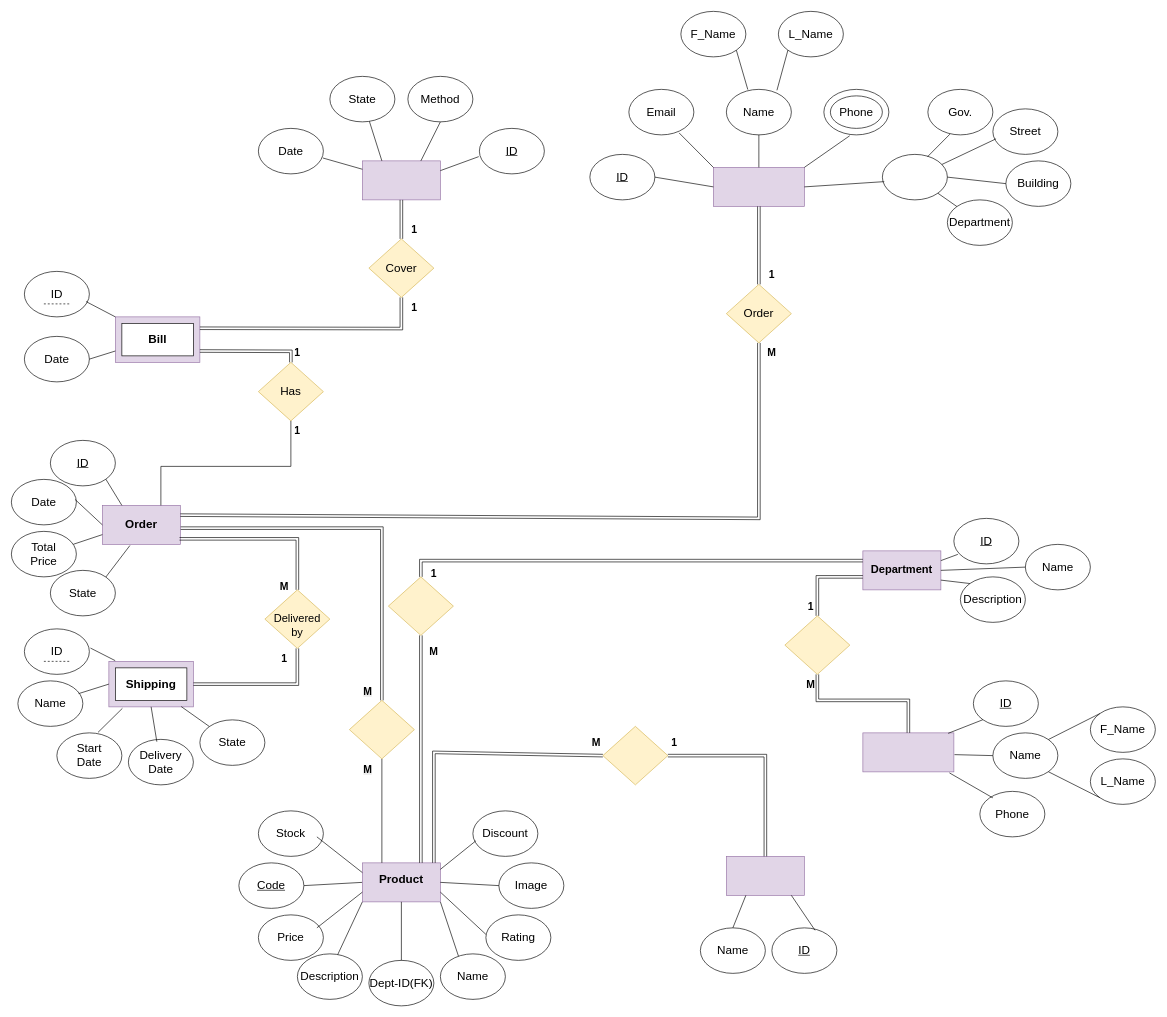
Image size: 1167x1017. Some labels were removed from this diagram. Here are the shapes that lost their labels. From the top down, the box of each, then its label:
(362, 160, 440, 200): Payment
(713, 167, 804, 206): customer
(882, 154, 947, 200): Address
(388, 576, 453, 635): Belong to
(784, 615, 850, 674): Manage
(349, 700, 414, 759): Include
(602, 726, 668, 785): Supply
(862, 732, 954, 772): Employee
(726, 856, 804, 895): Factory
